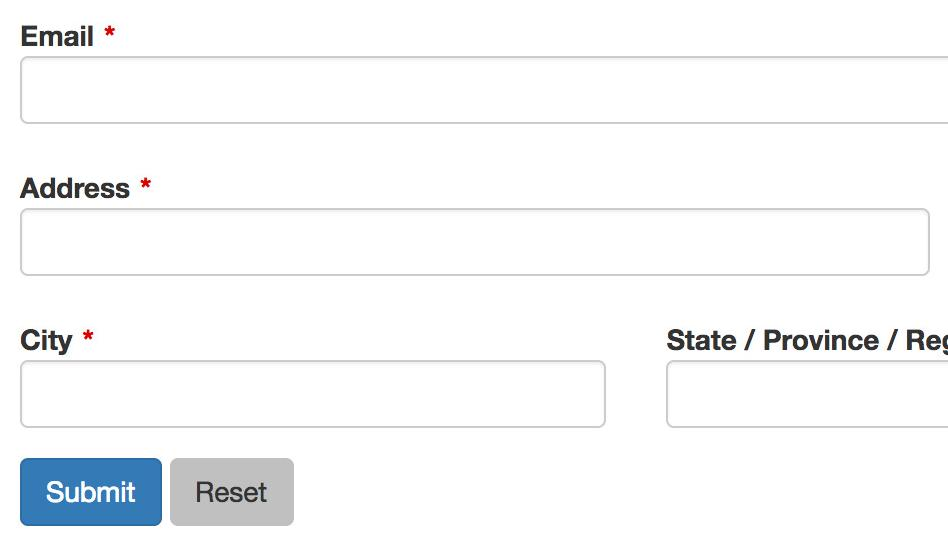button: (14, 453, 167, 532), (167, 456, 299, 532)
field: (13, 203, 930, 281), (13, 353, 607, 432)
